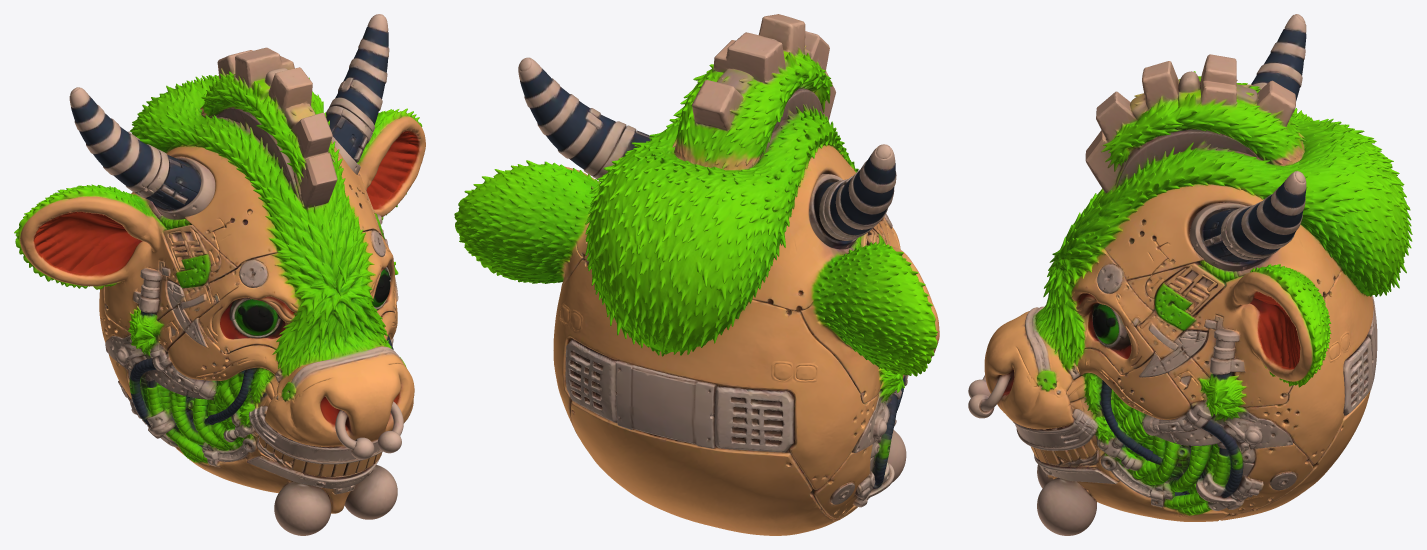
The model's file is grasscowschmeckicore.glb.
3 views of the same model, side by side, from view 1: azimuth 30°, elevation 25°; view 2: azimuth 150°, elevation 25°; view 3: azimuth 270°, elevation 25° (orthographic). The views are drawn at different scales.
Visible parts, largest first — view 1: grasscowschmeckicore; view 2: grasscowschmeckicore; view 3: grasscowschmeckicore.
Part boxes in pixels (<box>): grasscowschmeckicore: <box>14,14,425,535</box>; grasscowschmeckicore: <box>454,14,939,535</box>; grasscowschmeckicore: <box>968,14,1412,535</box>.
Size of the model in its own units: 1.86 by 1.83 by 1.64.
Materials: 2 (2 with a texture image).
